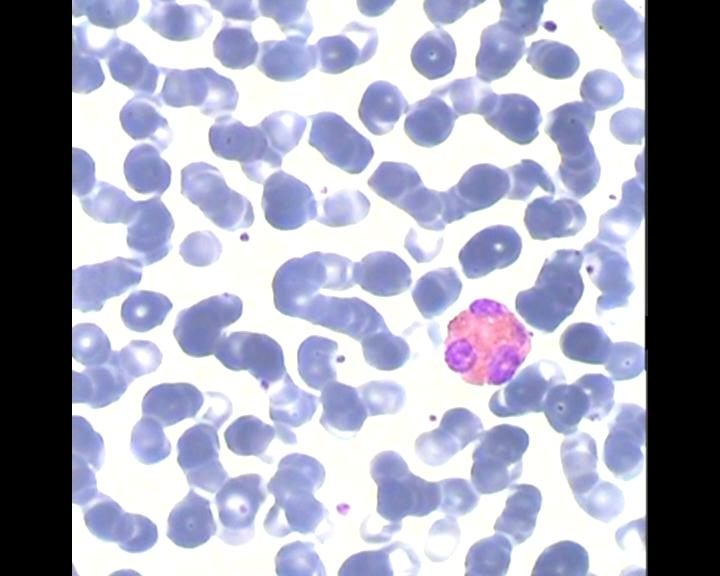eosi: (439, 294, 537, 392)
